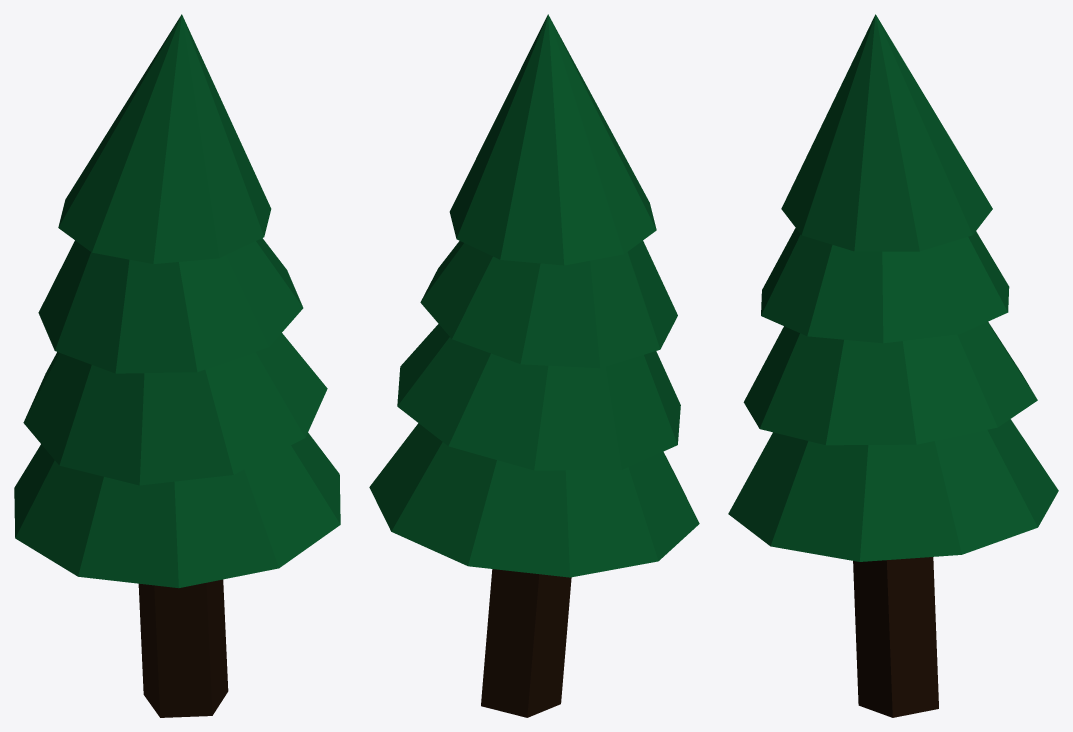
File: PineTree.fbx
The picture shows the model from 3 angles, left to right: view 1: azimuth 30°, elevation 25°; view 2: azimuth 150°, elevation 25°; view 3: azimuth 270°, elevation 25°; orthographic projection. The views are drawn at different scales.
Visible parts, largest first — view 1: PineTree; view 2: PineTree; view 3: PineTree.
Part boxes in pixels (left/top/right/bottom): PineTree: left=14, top=14, right=340, bottom=717; PineTree: left=369, top=14, right=699, bottom=717; PineTree: left=728, top=14, right=1058, bottom=717.
Bounding box in the file's own units: 99.28 × 230 × 101.
